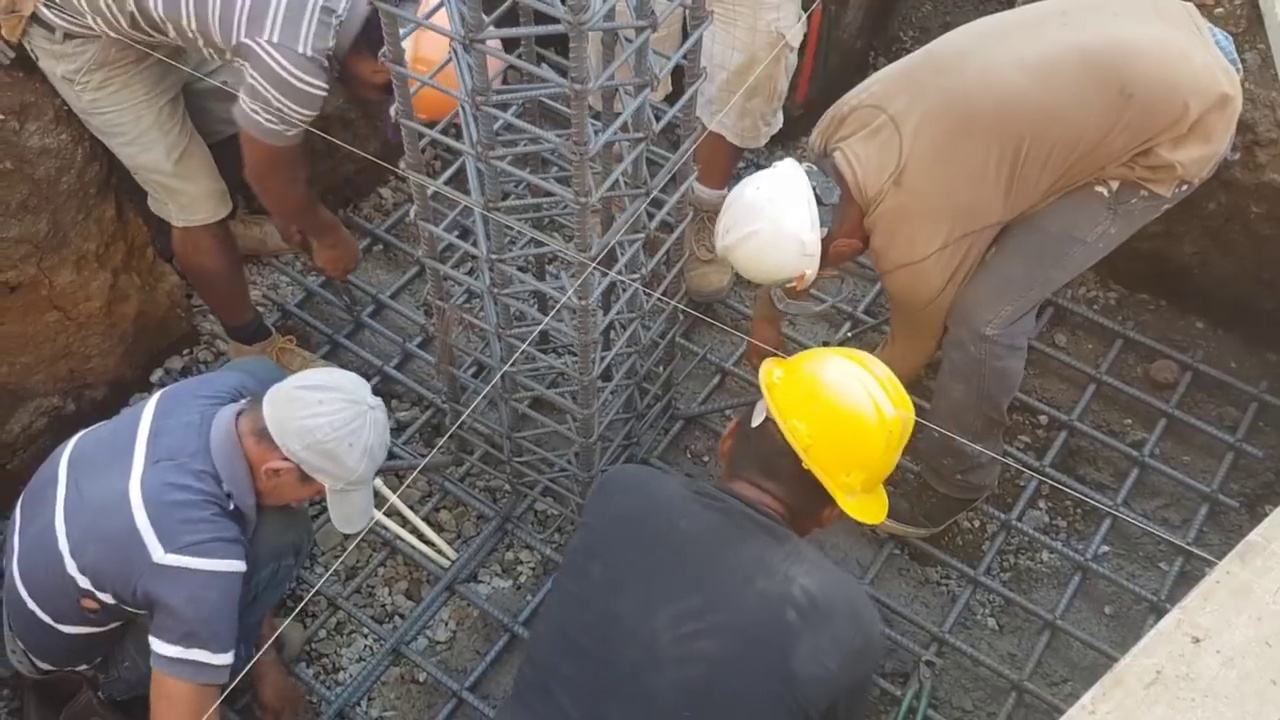helmet: (756, 351, 914, 534), (385, 6, 506, 127), (721, 155, 825, 294)
helmet-off: (240, 366, 385, 531)
helmet-on: (694, 346, 911, 544), (724, 136, 872, 299), (331, 0, 505, 136)
person: (716, 0, 1254, 530), (11, 0, 517, 350), (512, 345, 905, 710), (14, 360, 388, 720), (573, 2, 812, 308)
